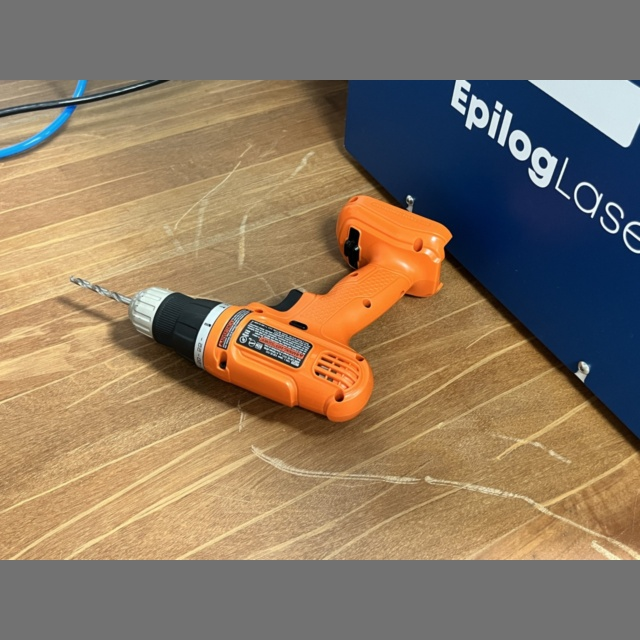drill: (72, 195, 451, 421)
